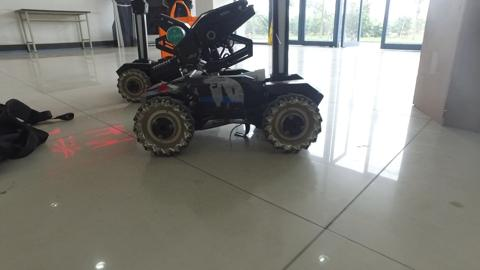chariot: (135, 1, 328, 154)
